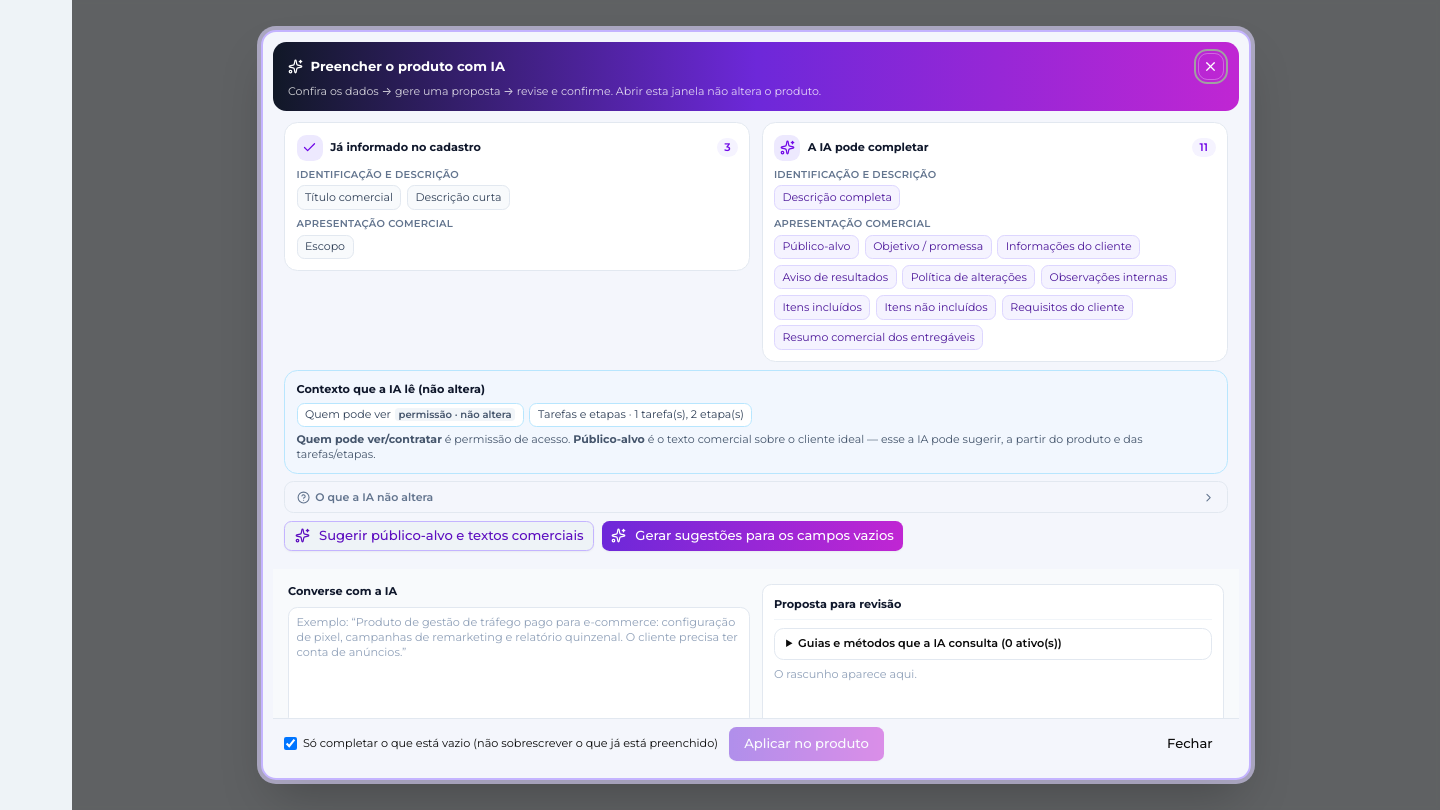
Test: janela da IA: contexto × público-alvo › 'Sugerir público-alvo e textos comerciais' só PROPÕE os vazios, manda o contexto das etapas e proíbe usar permissão como público
Click the button with test id "ai-suggest-audience".
click(439, 536)  # box [284,520,594,550]
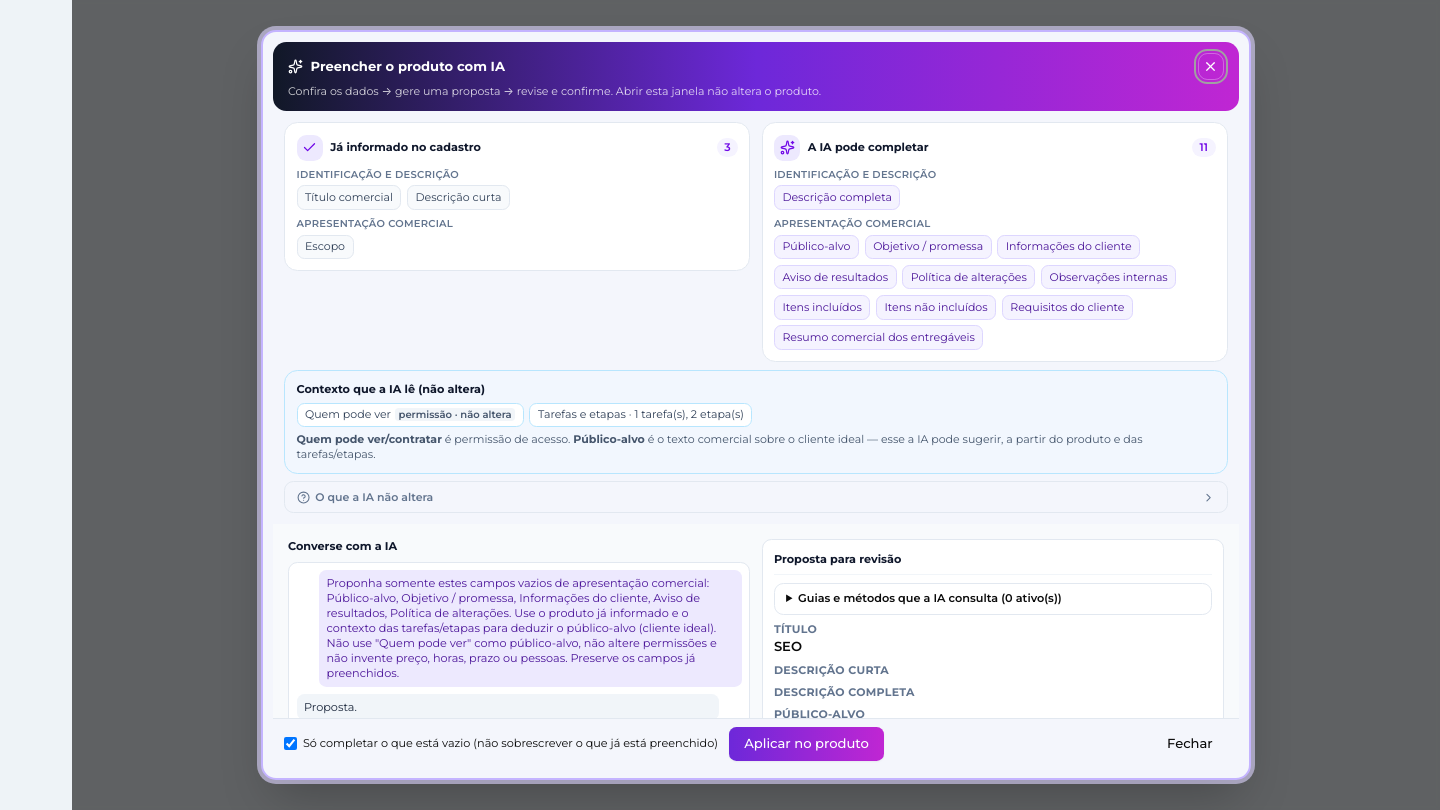
Expected: the list item "Proposta." is shown, [296,694,719,718]
